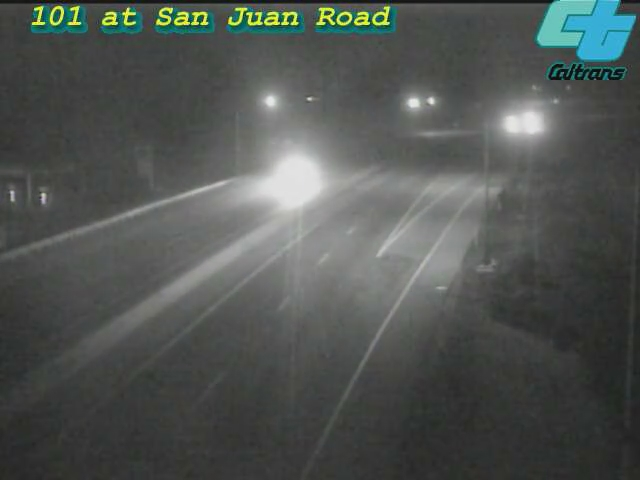vehicle: (254, 134, 334, 214), (506, 106, 556, 156), (485, 100, 535, 150), (505, 96, 555, 146)
